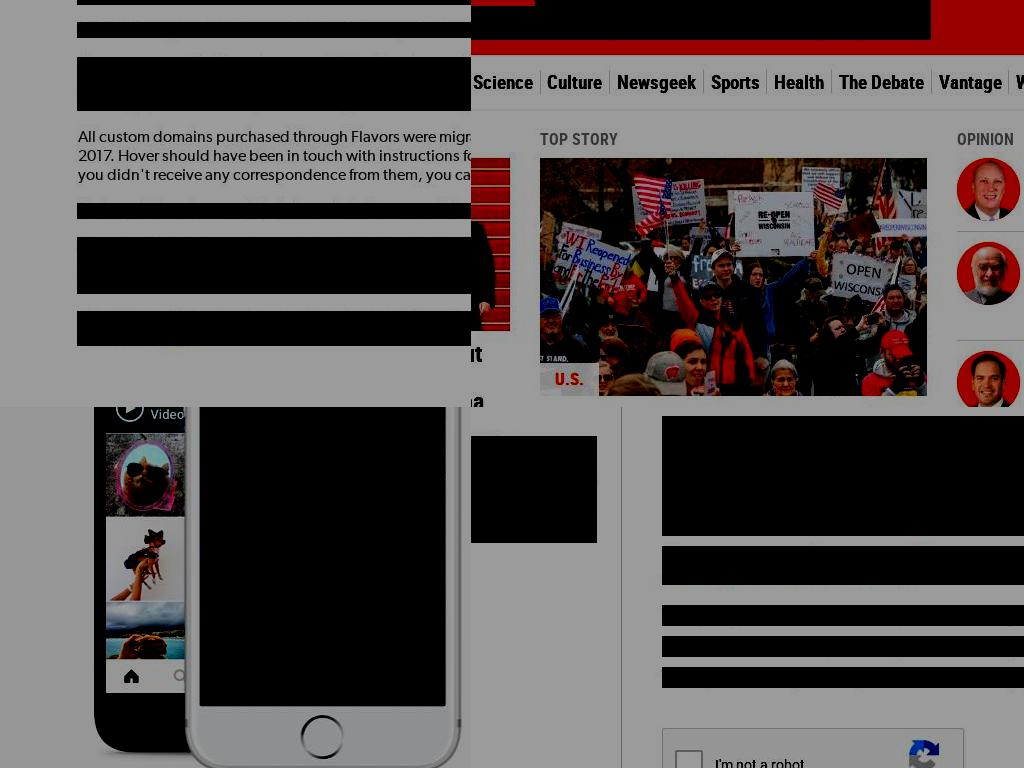button: (540, 158, 927, 396), (535, 0, 931, 40), (956, 158, 1020, 221), (956, 242, 1020, 305), (956, 351, 1020, 407), (832, 70, 931, 94), (610, 70, 703, 94), (931, 70, 1009, 94), (540, 70, 610, 94), (471, 70, 540, 94), (767, 70, 832, 94), (703, 70, 767, 94)
heading: (662, 416, 1024, 536), (662, 546, 1024, 585)
iframe: (662, 728, 966, 768)
image: (540, 158, 927, 396), (203, 407, 443, 702), (535, 0, 931, 40), (471, 436, 597, 543), (956, 158, 1020, 221), (956, 242, 1020, 305), (956, 351, 1020, 407)
link: (956, 131, 1014, 407), (555, 366, 585, 390), (159, 330, 190, 346)
text: (77, 237, 471, 294), (77, 57, 471, 111), (77, 130, 471, 184), (77, 311, 471, 346), (540, 131, 927, 158), (471, 6, 733, 40), (662, 605, 1024, 626), (662, 636, 1024, 657), (662, 667, 1024, 688), (77, 22, 471, 38), (77, 203, 471, 219), (189, 330, 195, 346)
